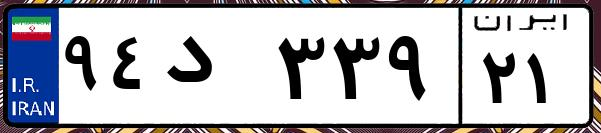1: (525, 38, 570, 115)
2: (475, 38, 525, 113)
3: (270, 28, 330, 110), (330, 28, 385, 110)
4: (110, 28, 158, 98)
9: (385, 28, 445, 110), (57, 26, 110, 100)
د: (158, 20, 270, 120)
